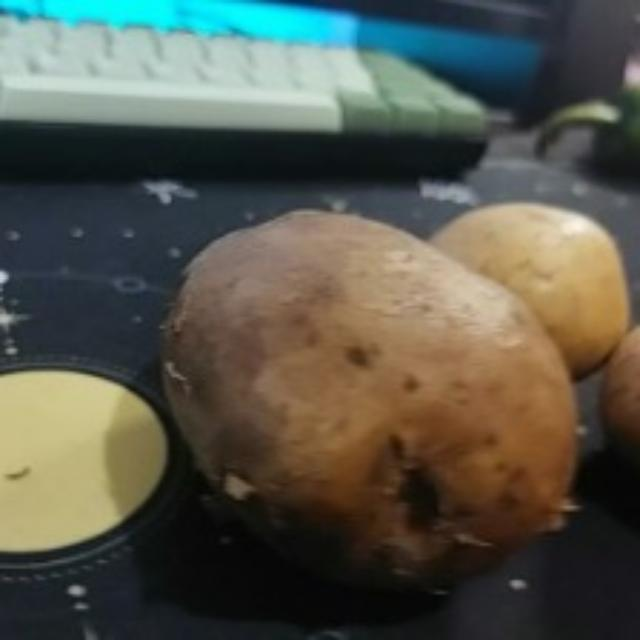Damaged potato: (153, 207, 597, 598)
Potato: (409, 202, 636, 384)
